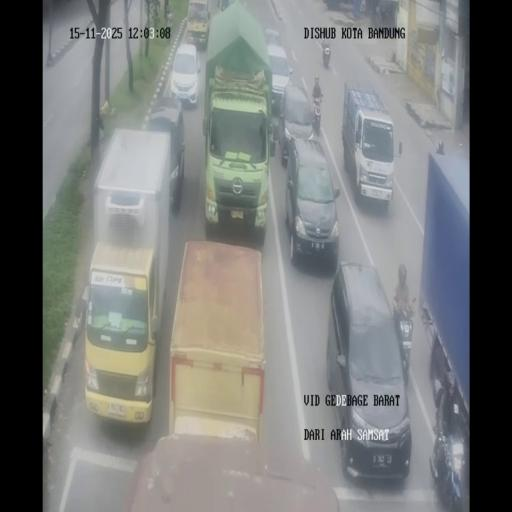3: (84, 129, 174, 423), (168, 240, 266, 444), (202, 2, 274, 244), (341, 81, 395, 210)
car: (326, 264, 410, 479), (285, 137, 339, 268), (146, 98, 185, 209), (280, 83, 314, 167), (170, 43, 200, 108), (266, 44, 292, 112), (185, 0, 211, 49), (264, 27, 280, 45)
truck: (430, 416, 467, 510), (391, 295, 415, 383), (311, 98, 322, 134), (322, 44, 331, 68), (375, 2, 382, 24)
